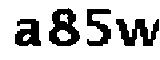5: (84, 5, 113, 48)
8: (46, 6, 82, 50)
a: (13, 17, 42, 48)
w: (115, 14, 160, 48)
